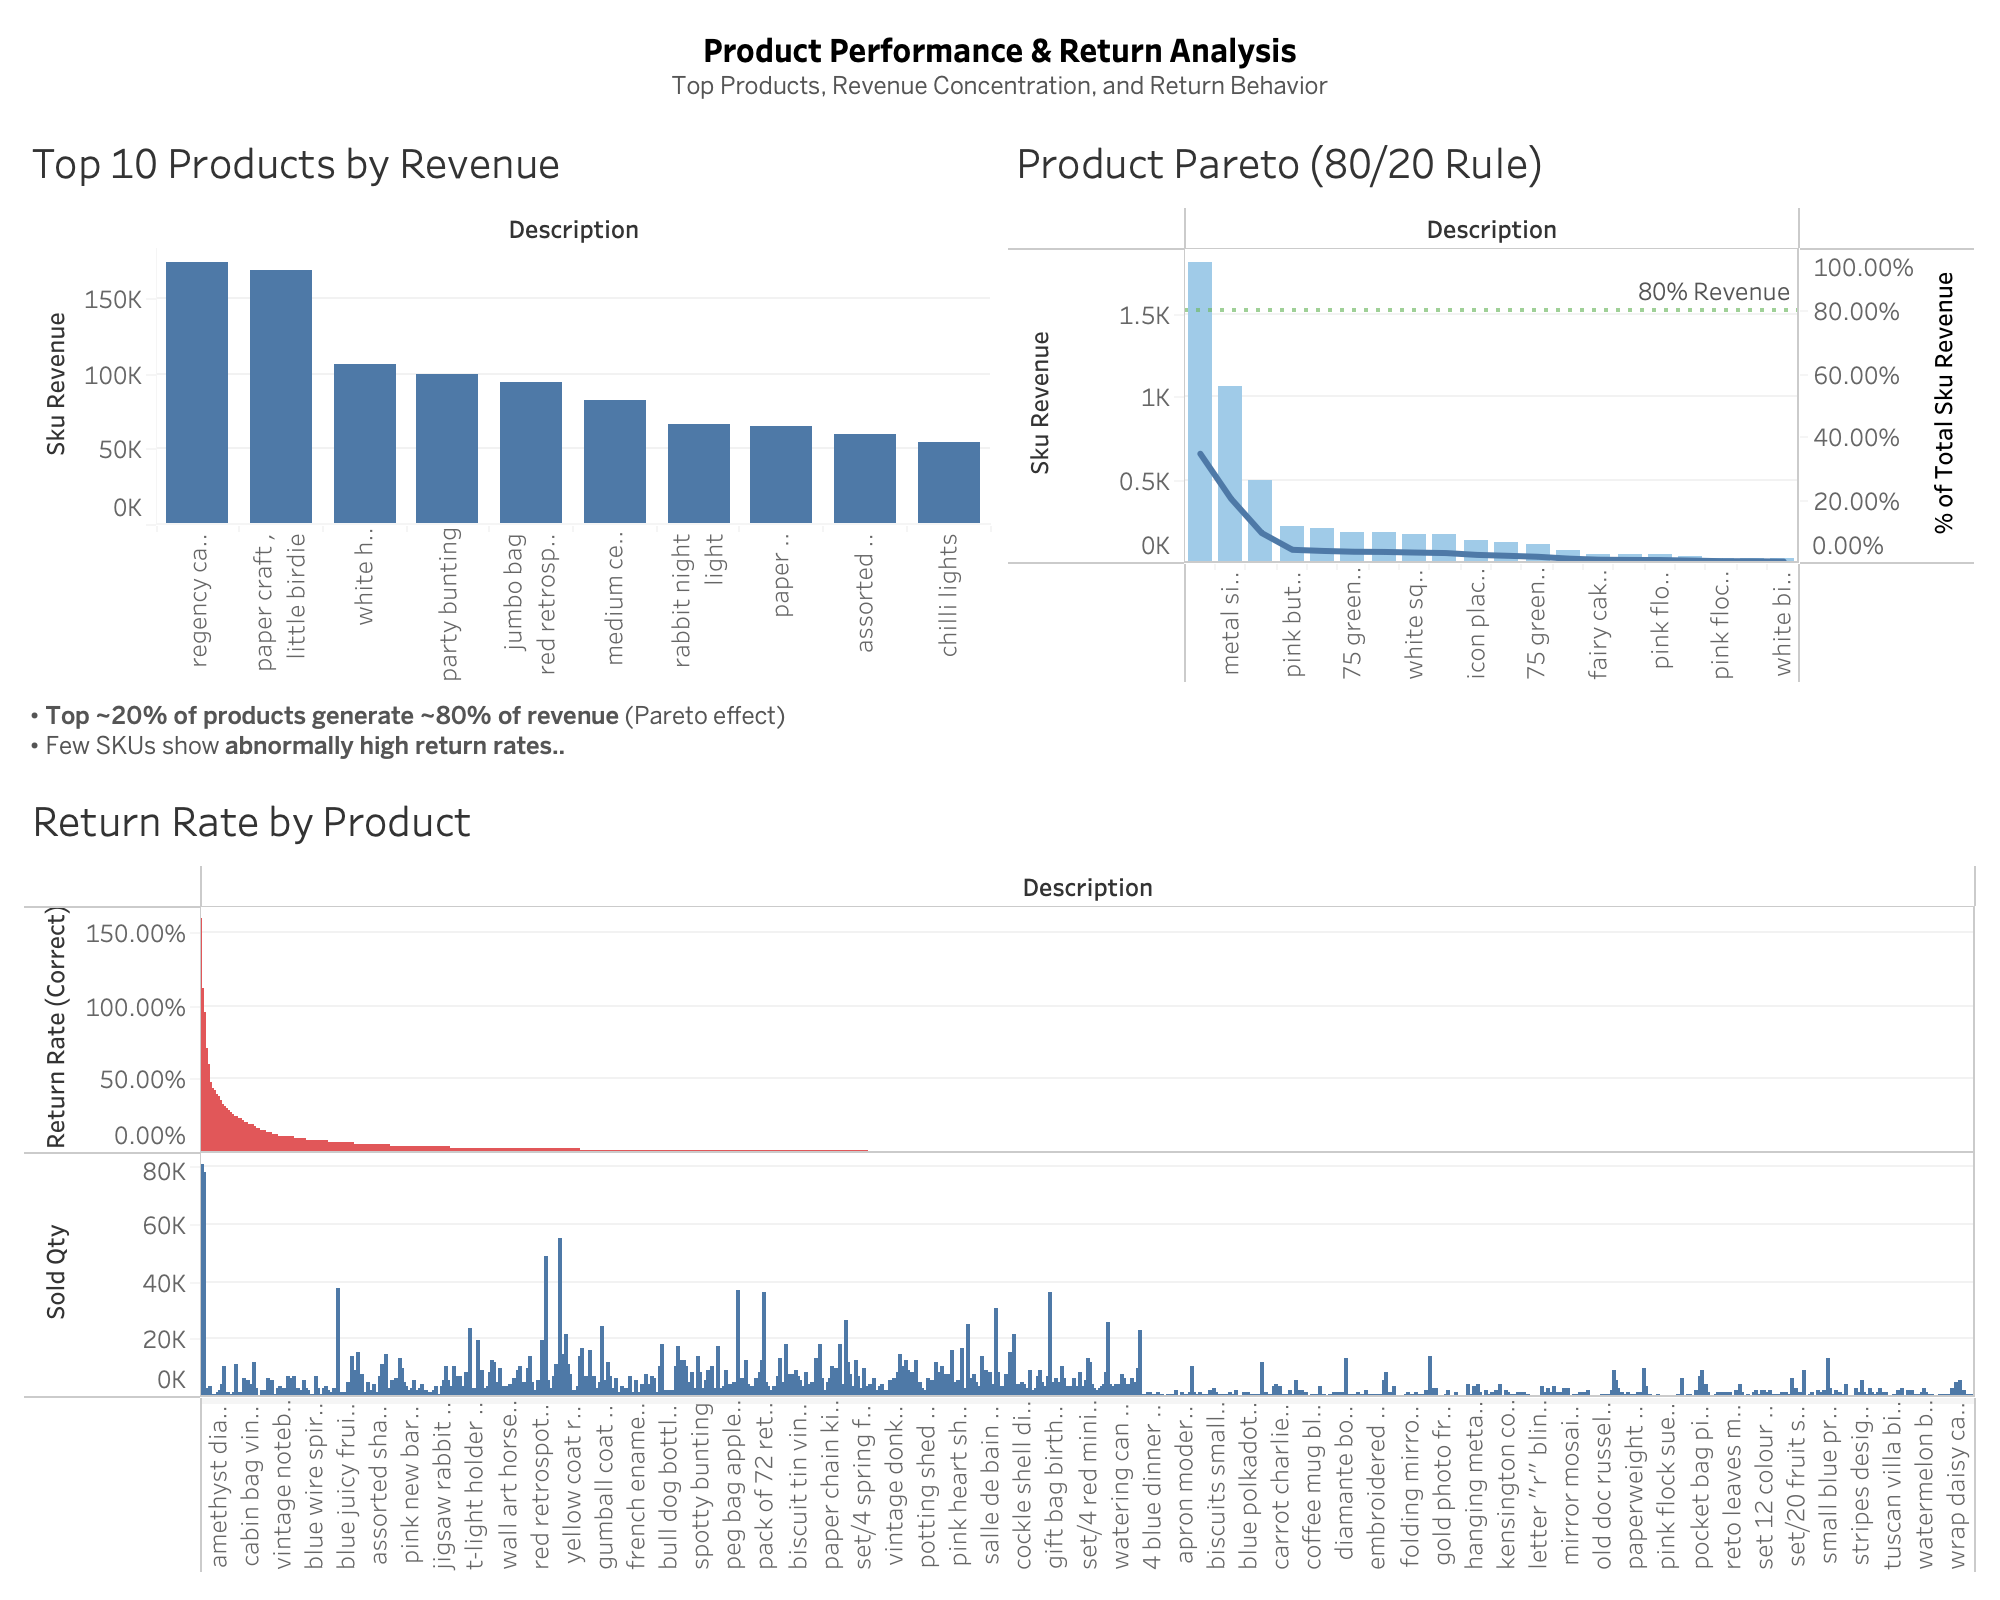

This screenshot's page, from the dashboard's own definition file:
{"tool":"tableau","page":{"name":"Product & Return Analysis","canvas":[1000,800],"ordinal":1},"visuals":[{"type":"text","box":[8,8,984,49]},{"type":"worksheet","title":"Top 10 Products by Revenue","mark":"Automatic","rows":["sku_revenue"],"cols":["description"],"box":[8,57,492,289]},{"type":"worksheet","title":"Product Pareto (80/20 Rule)","mark":"Automatic","rows":["sku_revenue","sku_revenue"],"cols":["description"],"box":[500,57,492,289]},{"type":"text","box":[8,346,984,40]},{"type":"worksheet","title":"Return Rate by Product","mark":"Bar","rows":["Calculation_0122820579192839","sold_qty"],"cols":["description"],"box":[8,386,984,406]}]}

Visuals, with their boxes in screenshot pixels (x1, y1, x2, y2), scaled from the page's 1000x800 canvas onto the 2000x1600 screenshot:
text: 16:16:1984:114
"Top 10 Products by Revenue" worksheet: 16:114:1000:692
"Product Pareto (80/20 Rule)" worksheet: 1000:114:1984:692
text: 16:692:1984:772
"Return Rate by Product" worksheet (Bar marks): 16:772:1984:1584
